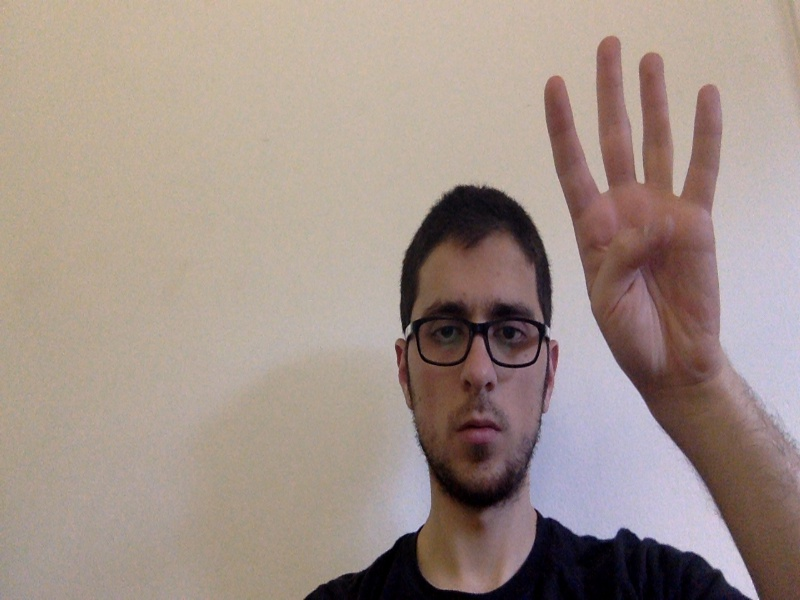4-hand: (545, 37, 725, 371)
